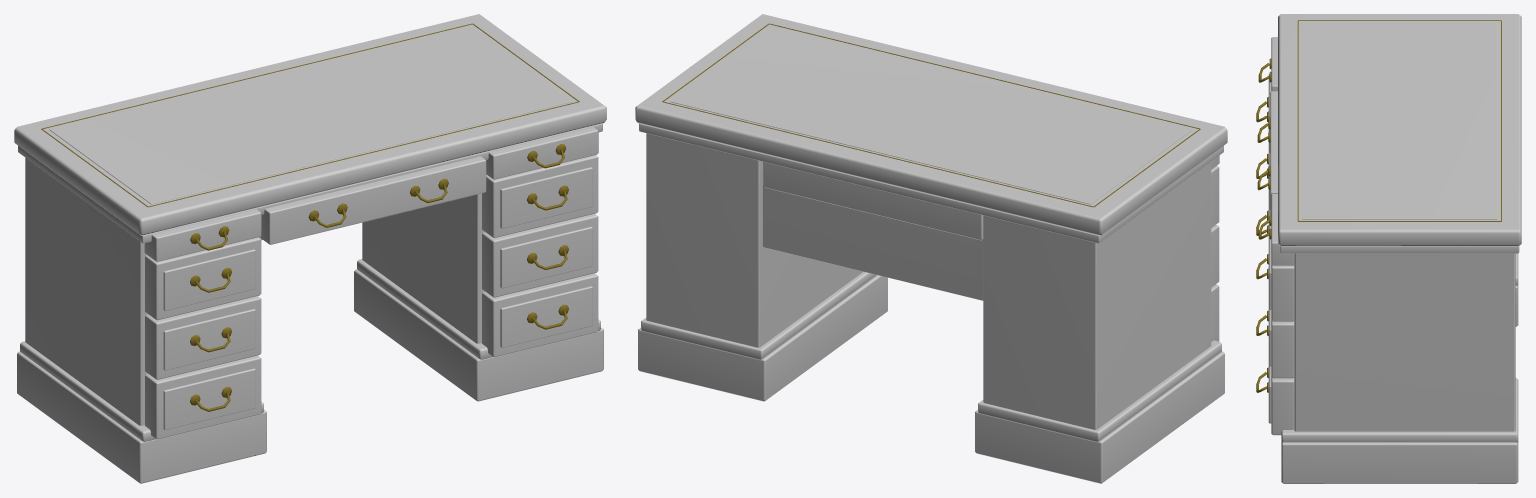
Rendered from 06_Leather_Desk.fbx.
The picture shows the model from 3 angles, left to right: view 1: azimuth 30°, elevation 25°; view 2: azimuth 150°, elevation 25°; view 3: azimuth 270°, elevation 25°; orthographic projection. The views are drawn at different scales.
Visible parts, largest first — view 1: 06_Leather_Desk; view 2: 06_Leather_Desk; view 3: 06_Leather_Desk.
Boxes of the visible parts, box(x1,y1,x2,y2) form: 06_Leather_Desk: box(14, 14, 606, 483); 06_Leather_Desk: box(635, 14, 1227, 483); 06_Leather_Desk: box(1256, 14, 1521, 483).
Bounding box in the file's own units: 1.48 × 0.8095 × 0.762.
